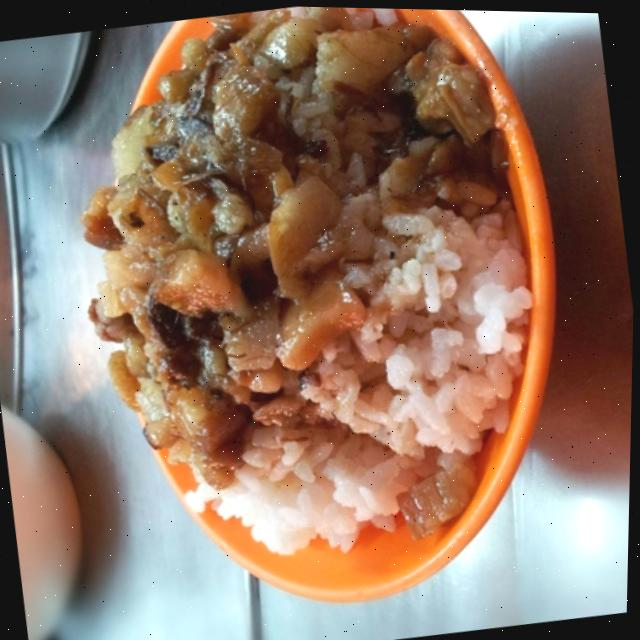猪肉菜式: (12, 0, 614, 609)
